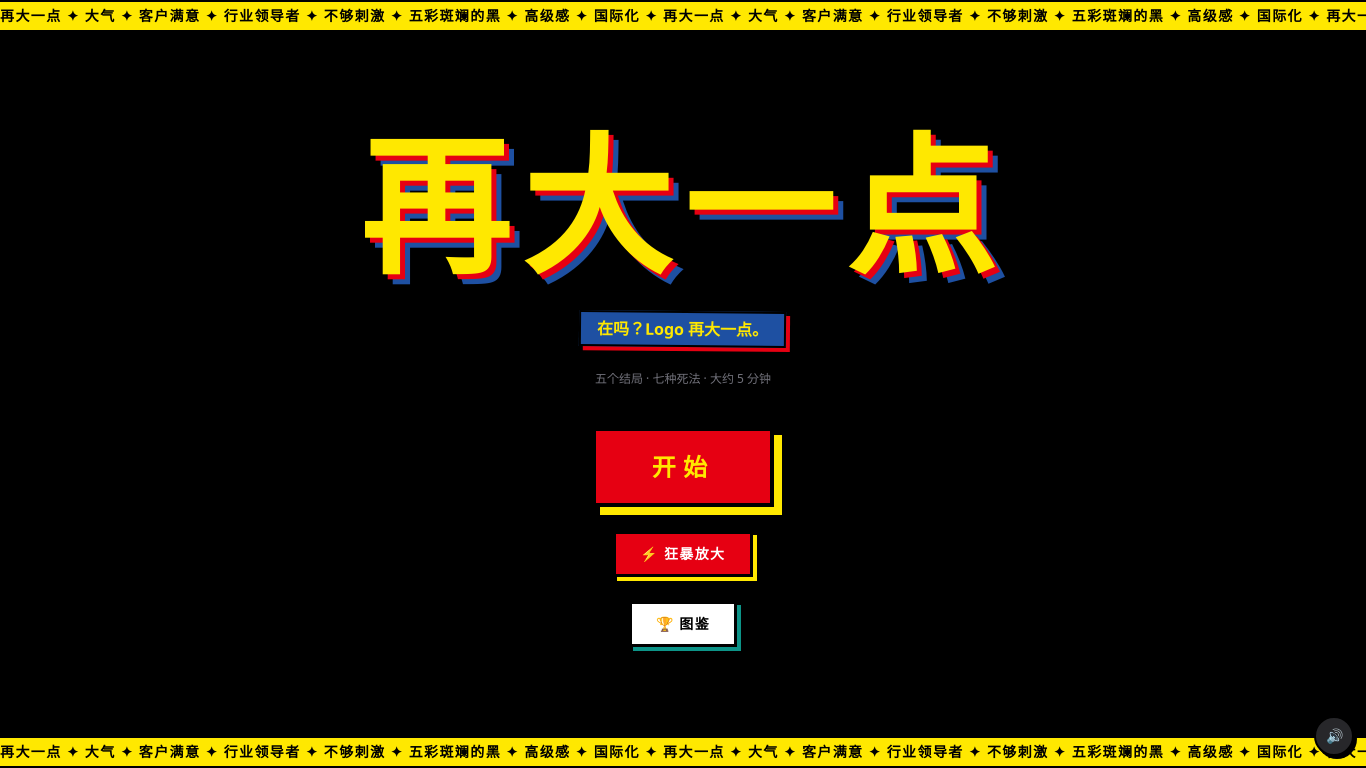
Test case: enters rage mode when AudioContext construction throws
Click the button "⚡ 狂暴放大". click: (683, 554)
box: [614,530,752,576]
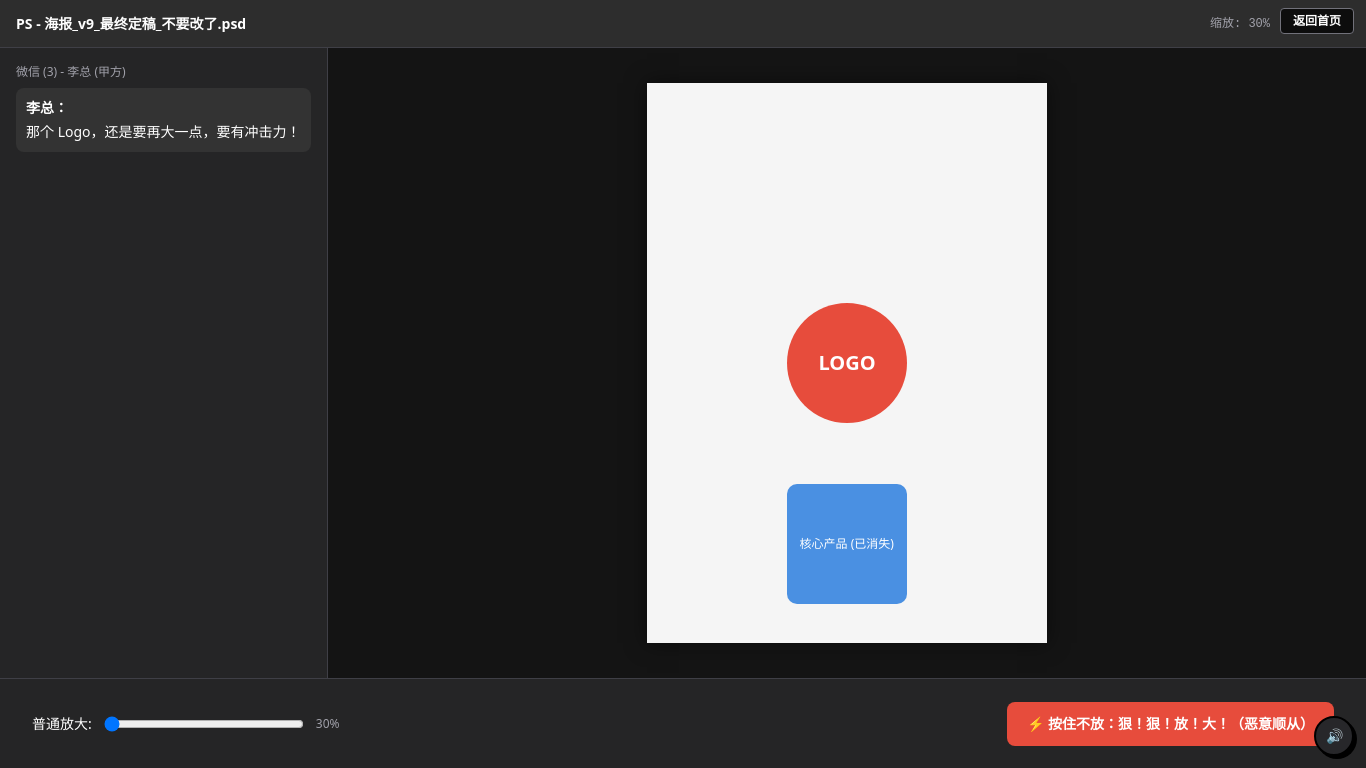
Now the text "PS - 海报_v9_最终定稿_不要改了.psd" is shown, box [16,14,246,34]
